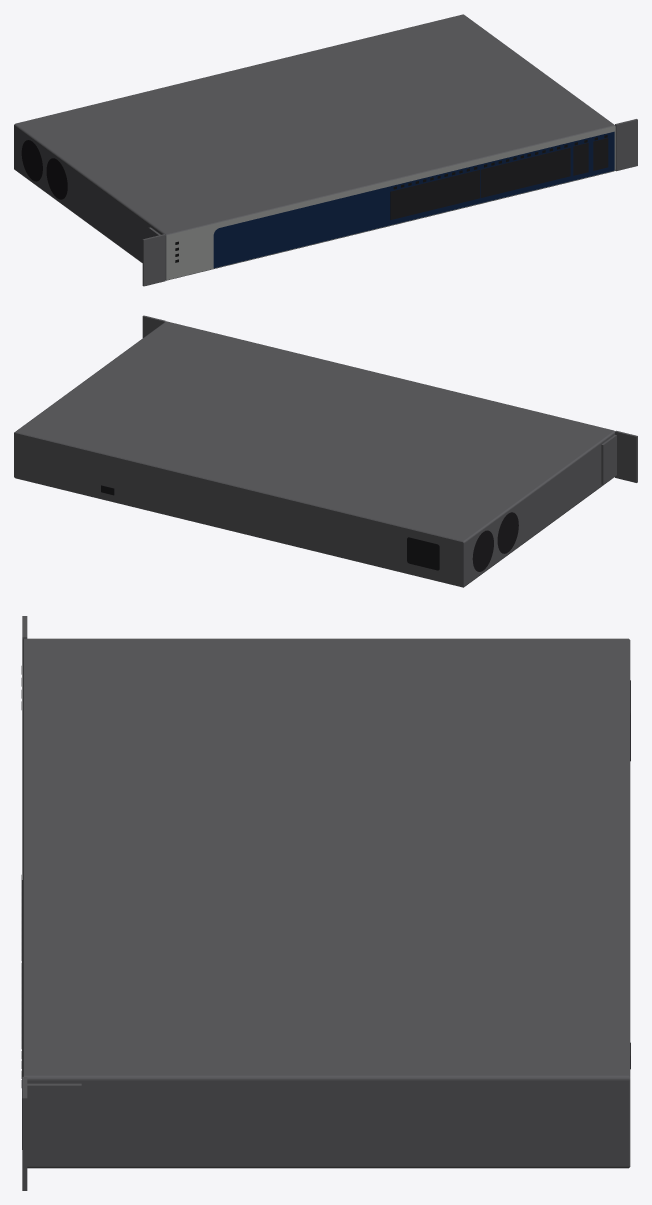
Rendered from GS728TPv2.far.glb.
The picture shows the model from 3 angles, top to bottom: view 1: azimuth 30°, elevation 25°; view 2: azimuth 150°, elevation 25°; view 3: azimuth 270°, elevation 25°; orthographic projection. The views are drawn at different scales.
Visible parts, largest first — view 1: Shell_far; view 2: Shell_far; view 3: Shell_far.
Boxes of the visible parts, x1=… form: Shell_far: x1=14, y1=14, x2=637, y2=286; Shell_far: x1=14, y1=315, x2=637, y2=587; Shell_far: x1=22, y1=616, x2=630, y2=1190.
Bounding box in the file's own units: 0.4826 × 0.0432 × 0.2578.
2 materials, 1 textured.
